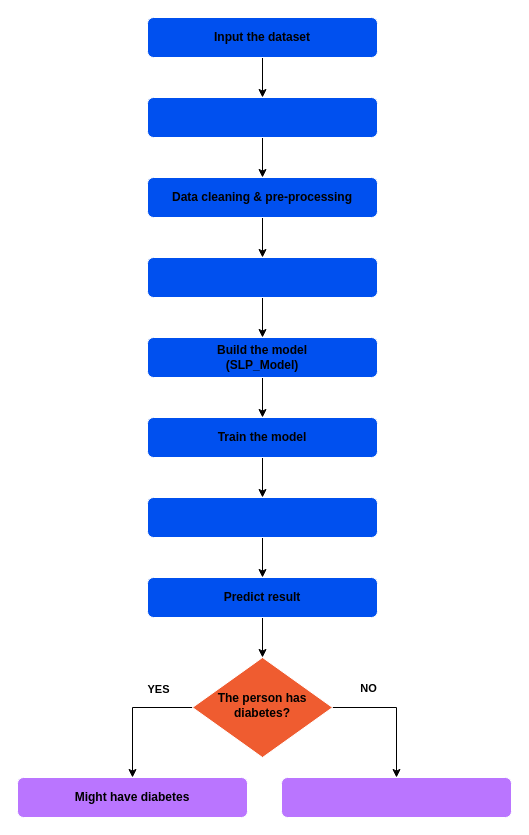
This 529x835 diagram has some shape labels left out. Here are the shapes that lost their labels. From the top down, the centre of each, then its label:
the point at 262,117: Read the data
the point at 262,277: Split into train and test data
the point at 262,517: Evaluate the accuracy of the model
the point at 396,797: Have no diabetes
